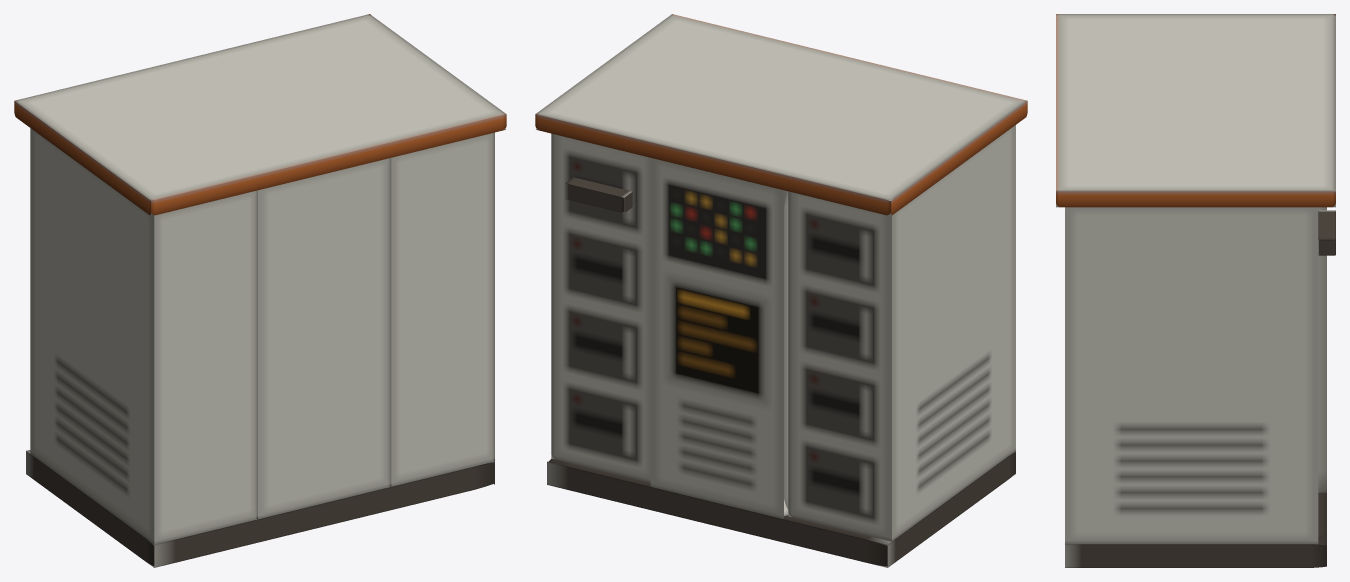
Rendered from era5_crafting_computer.obj.
3 views of the same model, side by side, from view 1: azimuth 30°, elevation 25°; view 2: azimuth 150°, elevation 25°; view 3: azimuth 270°, elevation 25° (orthographic). The views are drawn at different scales.
Parts seen in each view (by area): view 1: era5_crafting_computer; view 2: era5_crafting_computer; view 3: era5_crafting_computer.
Boxes of the visible parts, <box> form: era5_crafting_computer: <box>14,14,506,567</box>; era5_crafting_computer: <box>535,14,1027,567</box>; era5_crafting_computer: <box>1056,14,1335,567</box>.
Size of the model in its own units: 3 by 3 by 2.
